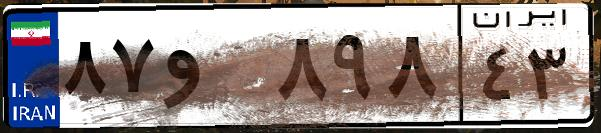3: (525, 38, 570, 115)
4: (475, 38, 525, 113)
7: (110, 28, 158, 98)
8: (270, 28, 330, 110), (385, 28, 445, 110), (57, 26, 110, 100)
9: (330, 28, 385, 110)
و: (158, 20, 270, 120)
